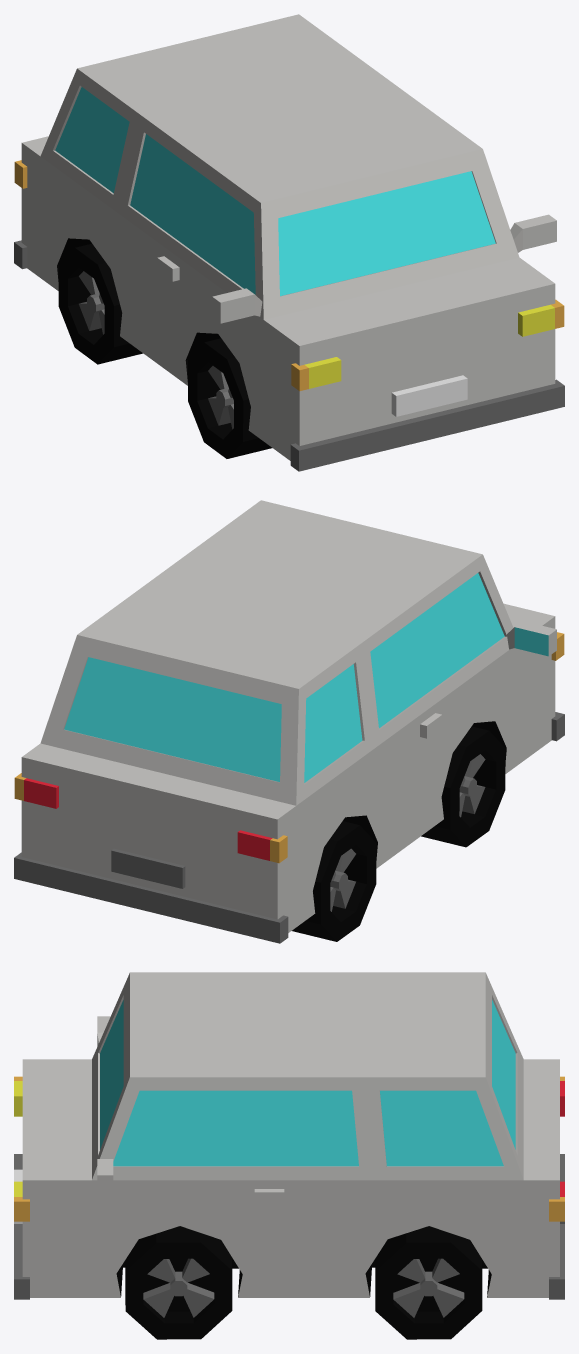
File: Car2.fbx
The picture shows the model from 3 angles, top to bottom: view 1: azimuth 30°, elevation 25°; view 2: azimuth 150°, elevation 25°; view 3: azimuth 270°, elevation 25°; orthographic projection. The views are drawn at different scales.
Parts seen in each view (by area): view 1: Car Body.002, Front Bumper.002, Rear Right Wheel.002, Front Right Wheel.002, Door Mirrors.002, Head Lights.002, Front License Plate.002; view 2: Car Body.002, Rear Bumper.002, Front Right Wheel.002, Rear Right Wheel.002, Break Lights.002, Rear License Plate.002, Door Mirrors.002; view 3: Car Body.002, Front Left Wheel.002, Rear Left Wheel.002, Front Bumper.002, Head Lights.002, Door Mirrors.002, Rear Bumper.002, Break Lights.002, Door Handles.002.
Part boxes in pixels (box(x1,y1,x2,y2)): Car Body.002: box(21, 14, 555, 460); Front Bumper.002: box(290, 379, 564, 471); Rear Right Wheel.002: box(58, 243, 142, 364); Front Right Wheel.002: box(188, 338, 271, 458); Door Mirrors.002: box(212, 214, 556, 323); Head Lights.002: box(291, 299, 564, 391); Front License Plate.002: box(391, 375, 467, 416); Car Body.002: box(21, 500, 555, 932); Rear Bumper.002: box(14, 852, 288, 943); Front Right Wheel.002: box(421, 726, 505, 847); Rear Right Wheel.002: box(292, 821, 376, 941); Break Lights.002: box(14, 773, 287, 863); Rear License Plate.002: box(111, 848, 185, 888); Door Mirrors.002: box(507, 621, 556, 656); Car Body.002: box(22, 972, 559, 1297); Front Left Wheel.002: box(125, 1226, 232, 1339); Rear Left Wheel.002: box(375, 1226, 482, 1339); Front Bumper.002: box(14, 1154, 29, 1299); Head Lights.002: box(14, 1076, 29, 1221); Door Mirrors.002: box(97, 1016, 113, 1195); Rear Bumper.002: box(549, 1154, 564, 1299); Break Lights.002: box(549, 1076, 564, 1221); Door Handles.002: box(254, 1189, 284, 1204).
Size of the model in its own units: 409 by 303 by 599.
